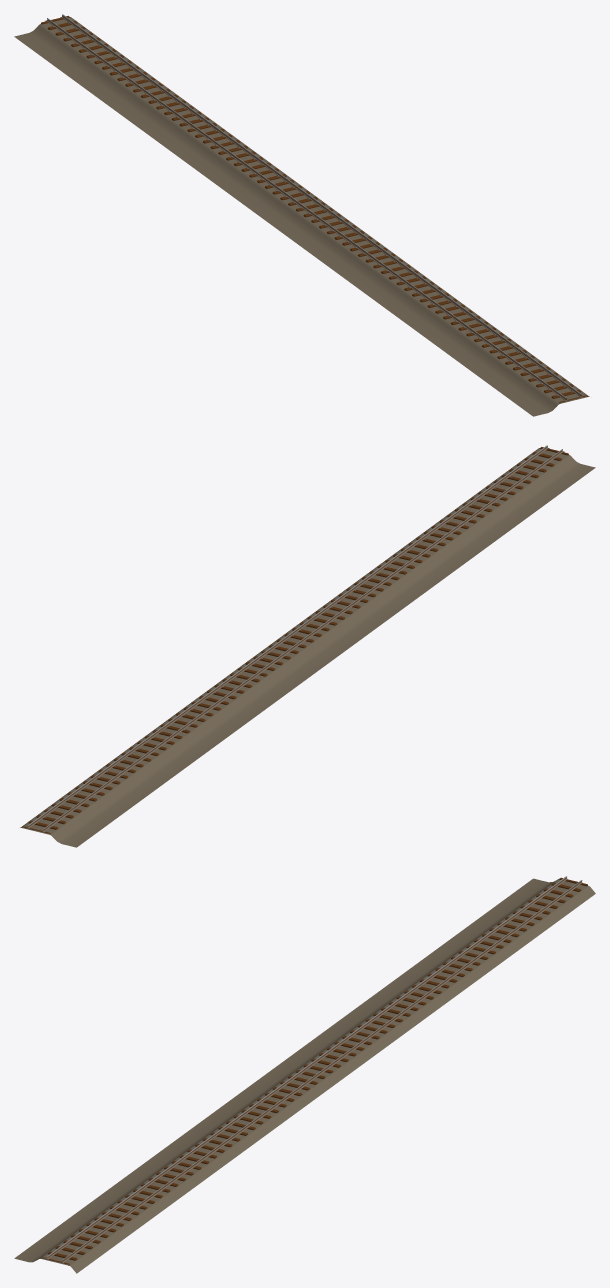
The model's file is Rail_Model_UPDATED.fbx.
The picture shows the model from 3 angles, top to bottom: view 1: azimuth 30°, elevation 25°; view 2: azimuth 150°, elevation 25°; view 3: azimuth 330°, elevation 25°; orthographic projection.
Parts seen in each view (by area): view 1: Ballast, Sleepers, Rail; view 2: Ballast, Sleepers, Rail; view 3: Ballast, Sleepers, Rail.
Part boxes in pixels (x1=…): Ballast: x1=14, y1=17, x2=589, y2=416; Sleepers: x1=41, y1=16, x2=587, y2=403; Rail: x1=47, y1=14, x2=582, y2=400; Ballast: x1=20, y1=448, x2=595, y2=847; Sleepers: x1=22, y1=447, x2=568, y2=834; Rail: x1=27, y1=445, x2=562, y2=831; Ballast: x1=14, y1=878, x2=595, y2=1273; Sleepers: x1=41, y1=877, x2=587, y2=1265; Rail: x1=46, y1=876, x2=582, y2=1262.
Bounding box in the file's own units: 1420 × 226 × 20373.
